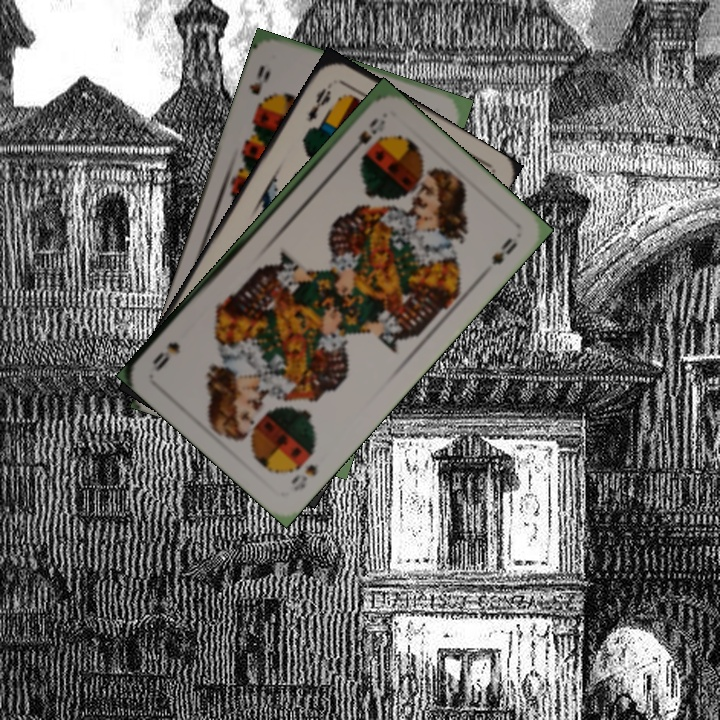EO: (303, 84, 334, 125)
S9: (245, 61, 273, 116)
SO: (343, 113, 389, 160), (286, 460, 320, 494)
